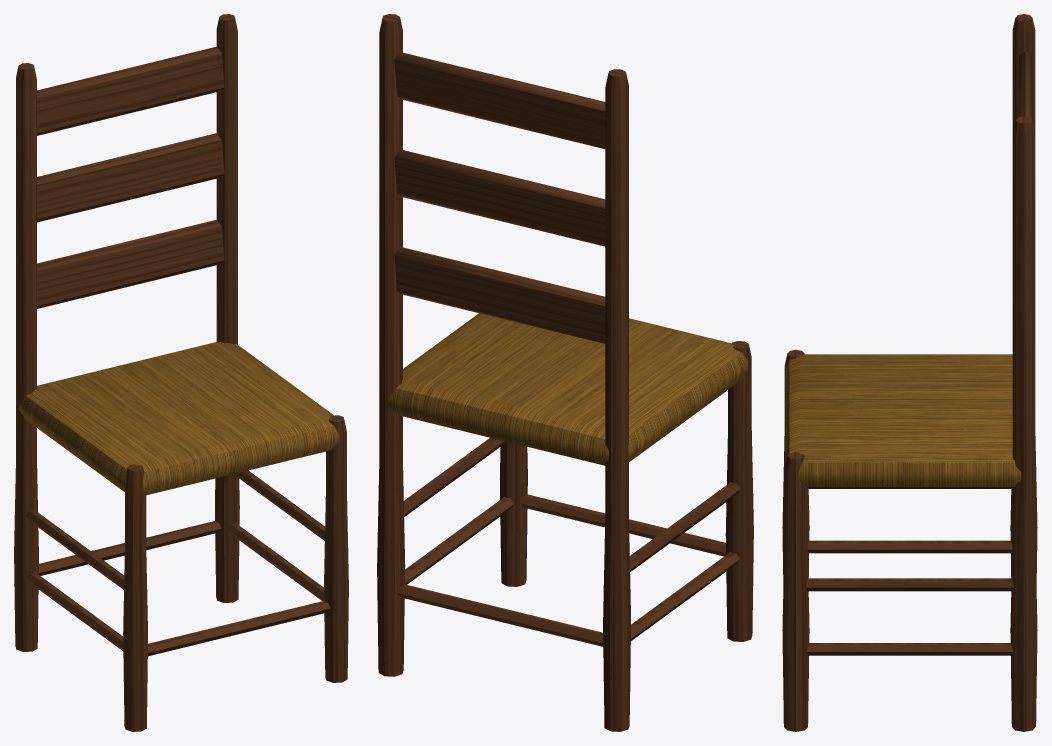
File: tavern-chair.glb
The picture shows the model from 3 angles, left to right: view 1: azimuth 30°, elevation 25°; view 2: azimuth 150°, elevation 25°; view 3: azimuth 270°, elevation 25°; orthographic projection. The views are drawn at different scales.
Parts seen in each view (by area): view 1: tavern_chair; view 2: tavern_chair; view 3: tavern_chair.
Part boxes in pixels (x1,y1,x2,y2): tavern_chair: (14,14,348,731); tavern_chair: (377,14,753,731); tavern_chair: (782,14,1037,731).
Bounding box in the file's own units: 0.378 × 0.94 × 0.358.
Materials: 2 (2 with a texture image).
